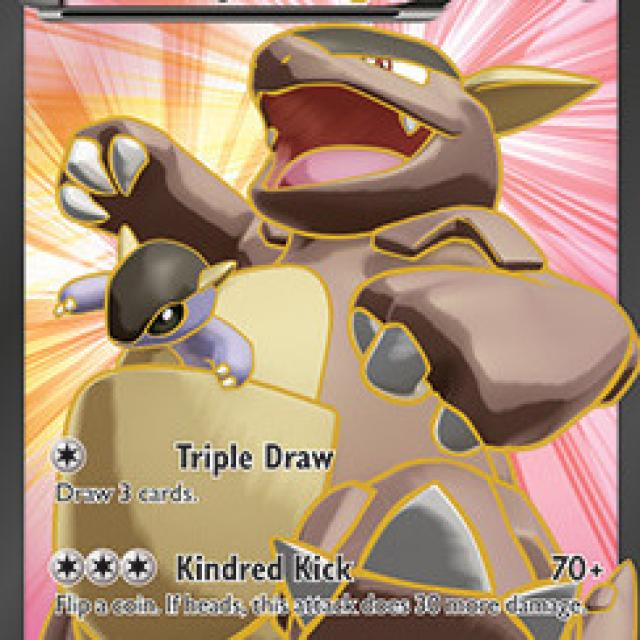Kangaskhan: (57, 24, 541, 624)
